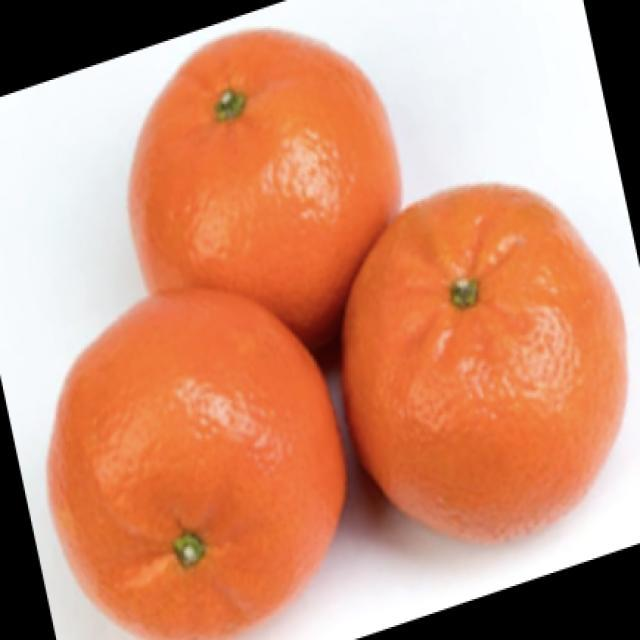Orange: (45, 286, 348, 639), (340, 181, 628, 544), (126, 26, 402, 355)
